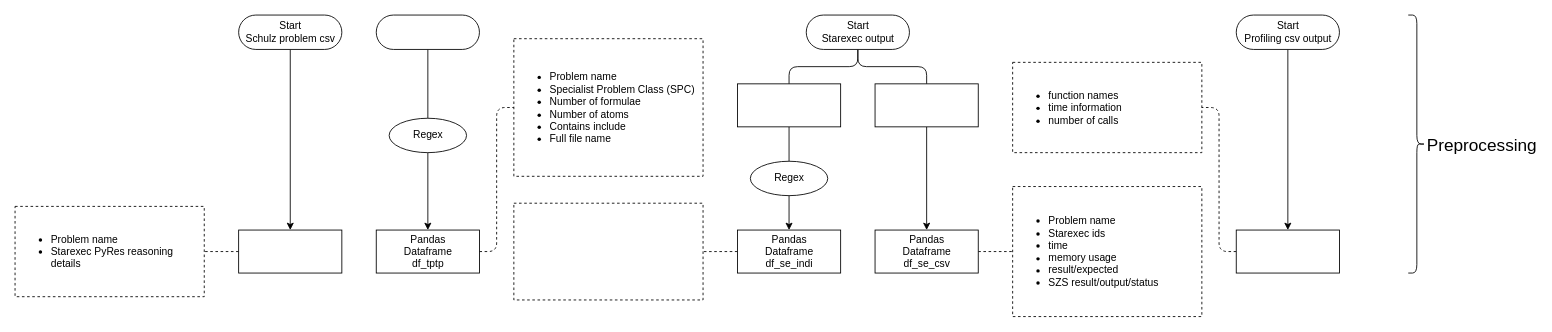
This 1552x332 diagram has some shape labels left out. Here are the shapes that lost their labels. From the top down, the box of each, then its label:
(375, 14, 479, 49): Start TPTP problem files
(737, 83, 841, 127): Individual outputs
(874, 83, 978, 127): csv output
(238, 229, 342, 273): Pandas Dataframe df_tptp_pyres
(513, 202, 703, 300): Problem name Result (success, error, etc.) Results for different r's CPU time
(1235, 229, 1339, 273): Pandas Dataframe df_profiling
